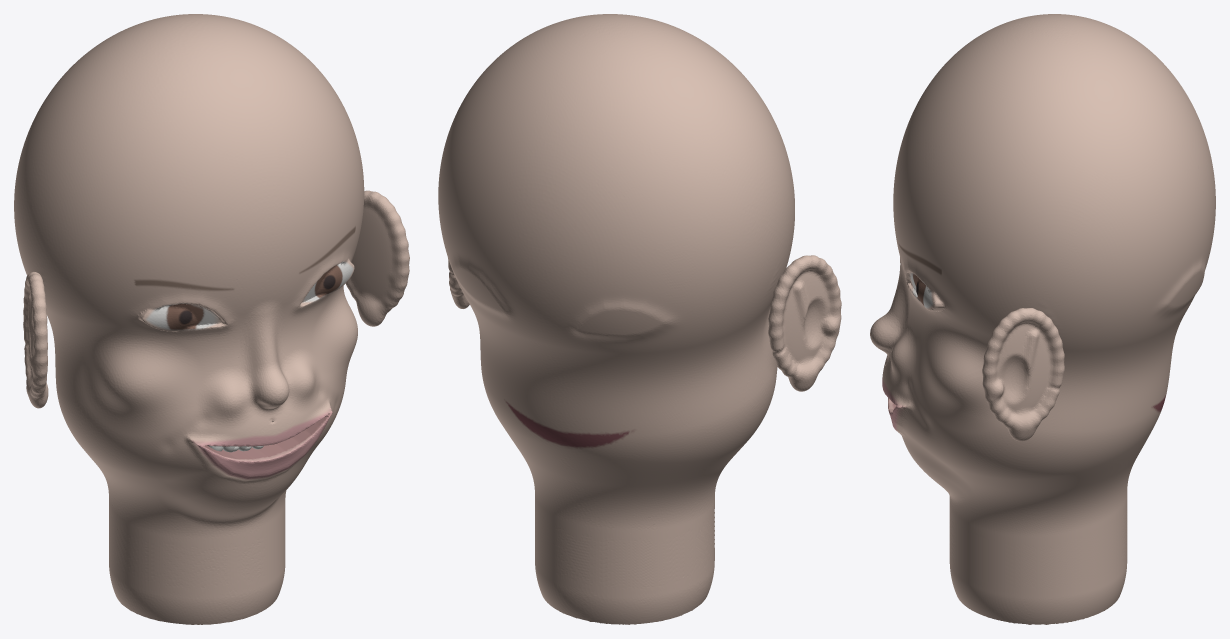
Rendered from karma_face_stage1_S_smile_EXPERIMENT.glb.
3 views of the same model, side by side, from view 1: azimuth 30°, elevation 25°; view 2: azimuth 150°, elevation 25°; view 3: azimuth 270°, elevation 25° (orthographic).
Visible parts, largest first — view 1: head; view 2: head; view 3: head.
Part boxes in pixels (left/top/right/bottom): head: left=14, top=14, right=409, bottom=624; head: left=438, top=14, right=841, bottom=624; head: left=870, top=14, right=1215, bottom=624.
Bounding box in the file's own units: 2.7 × 3.83 × 2.14.
